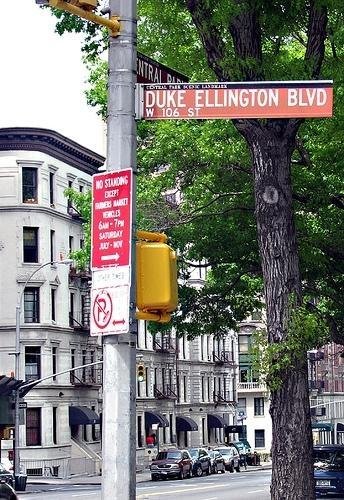car: (311, 442, 344, 500), (150, 450, 194, 482), (188, 448, 212, 476), (216, 446, 240, 472), (206, 450, 227, 474)
